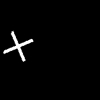single_crochet: (4, 32, 32, 60)
